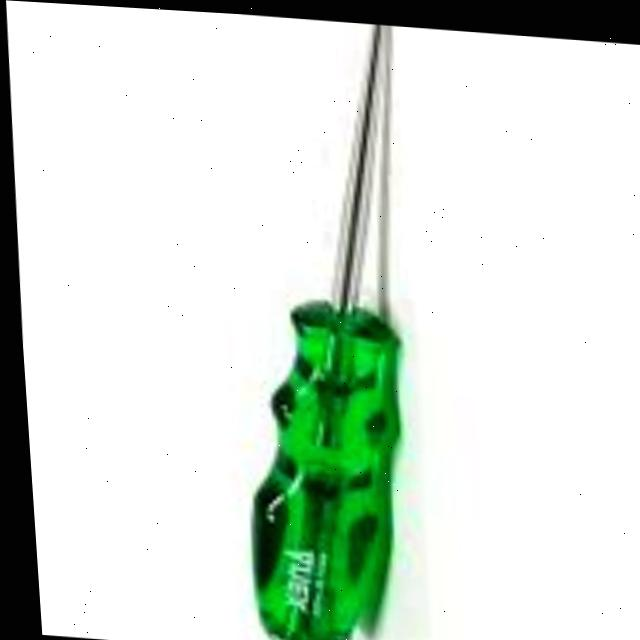ice pick: (203, 9, 444, 640)
